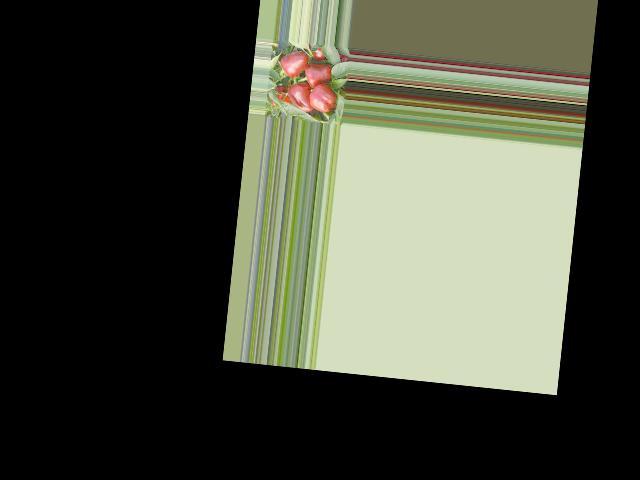bell_pepper: (307, 76, 337, 115)
